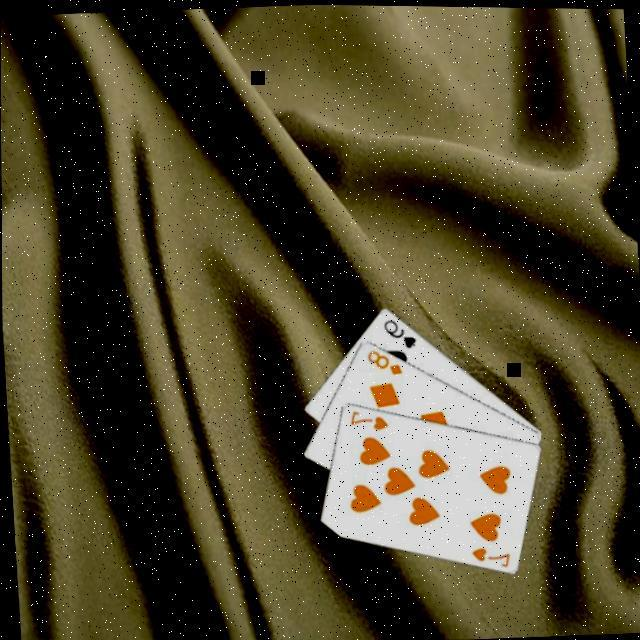7H: (468, 540, 514, 569), (348, 403, 392, 432)
8D: (364, 343, 406, 377)
9S: (381, 313, 421, 350)
